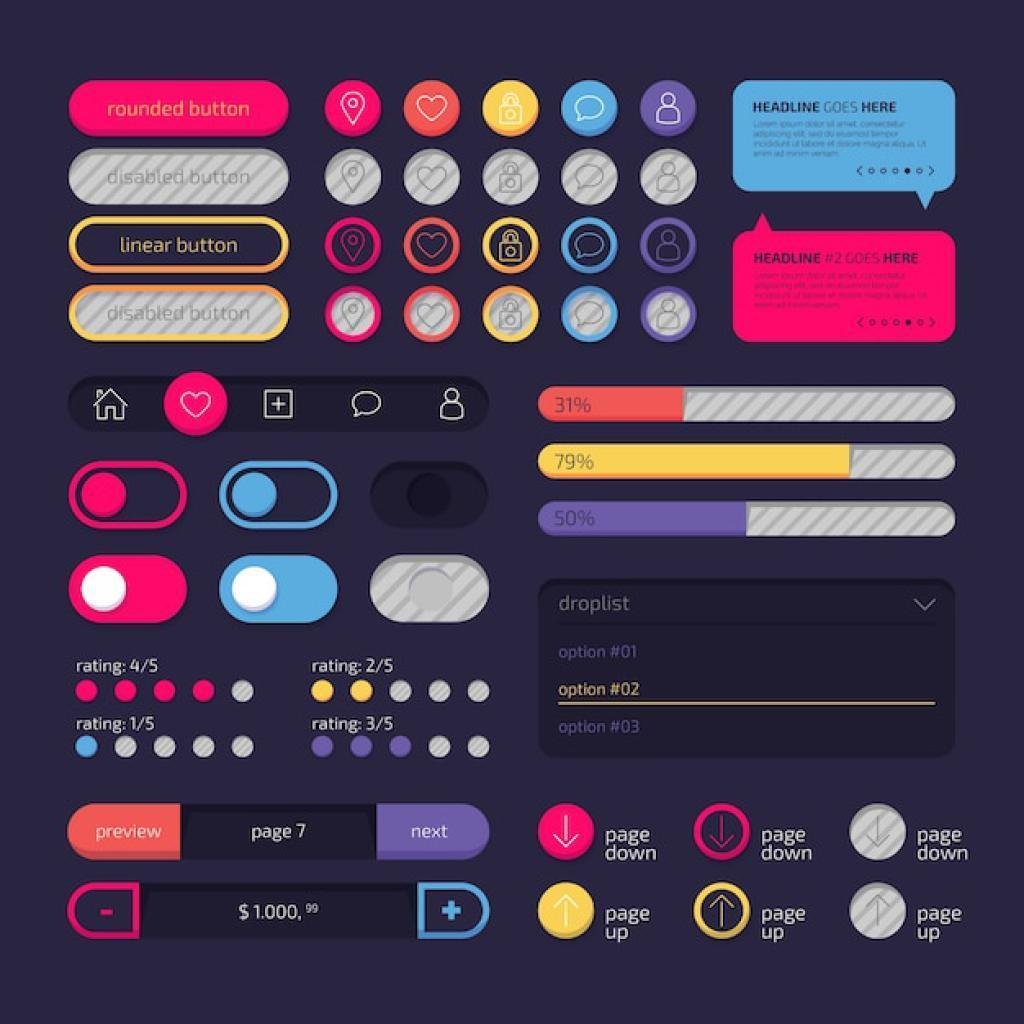button: (69, 285, 291, 344), (70, 149, 288, 205), (66, 218, 292, 272), (69, 83, 290, 138)
dropdown: (539, 575, 957, 628)
icon: (93, 386, 130, 426), (181, 389, 216, 422), (437, 389, 469, 424), (263, 389, 296, 422), (350, 388, 383, 421)
slider: (539, 440, 957, 490), (539, 500, 963, 547), (541, 387, 956, 423)
switch: (216, 459, 343, 538), (67, 551, 190, 631), (64, 457, 193, 533), (214, 551, 342, 627)
